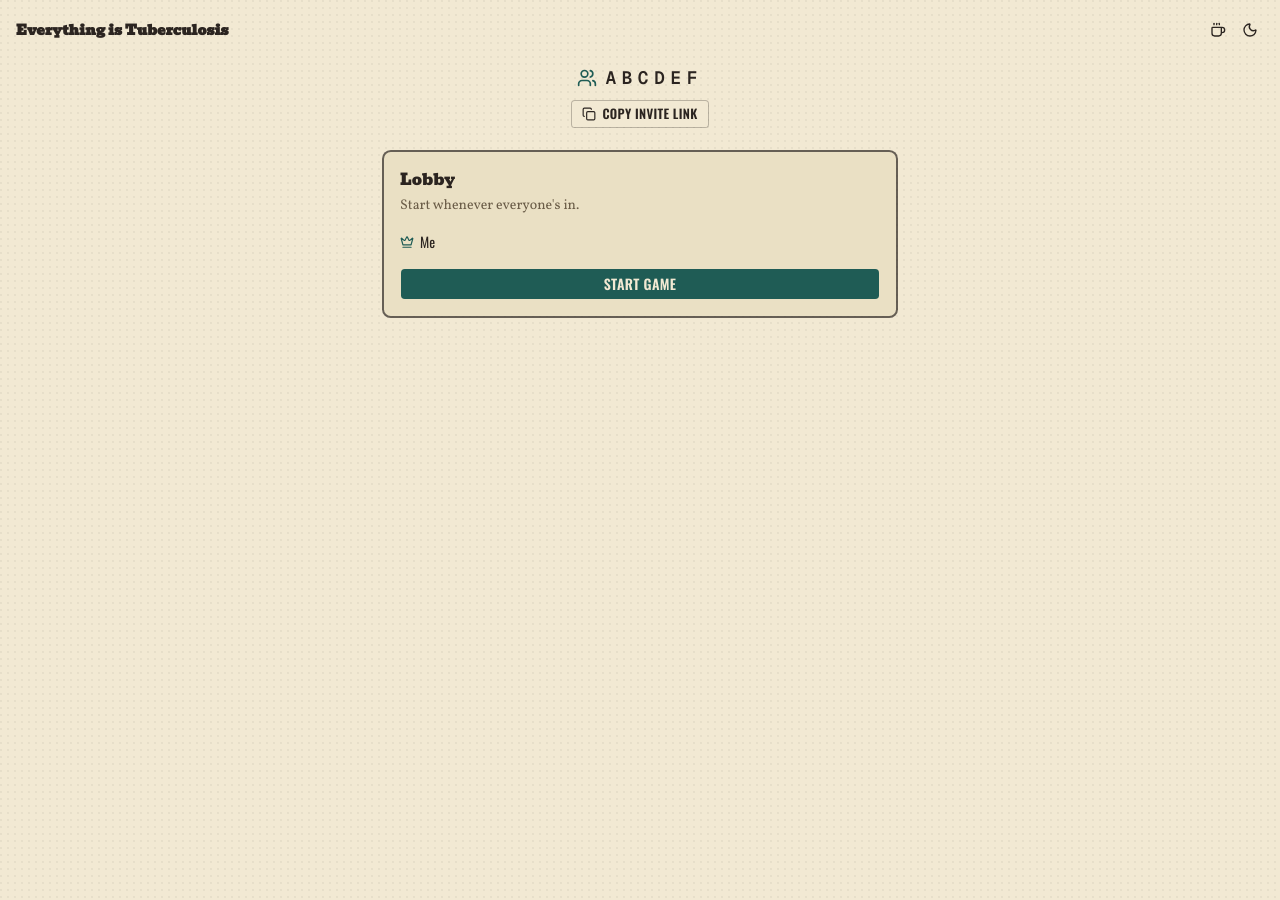
PartyRoom › shows an error when starting the game fails
The width and height of the screenshot is (1280, 900).
Click the button "Start Game".
click(640, 284)  # box [400,268,880,300]
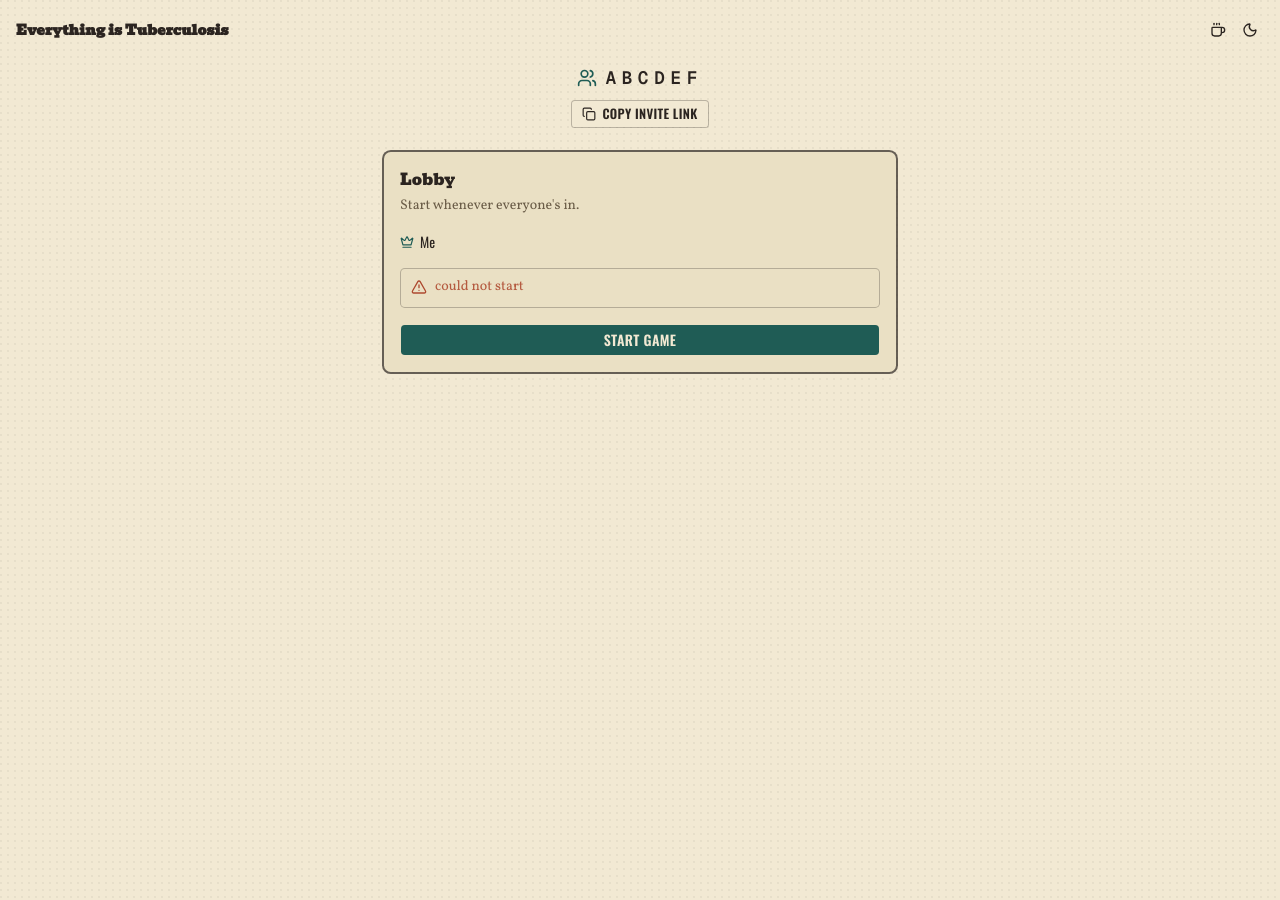
Check: the text "could not start" is shown, box [435,277,524,296]
